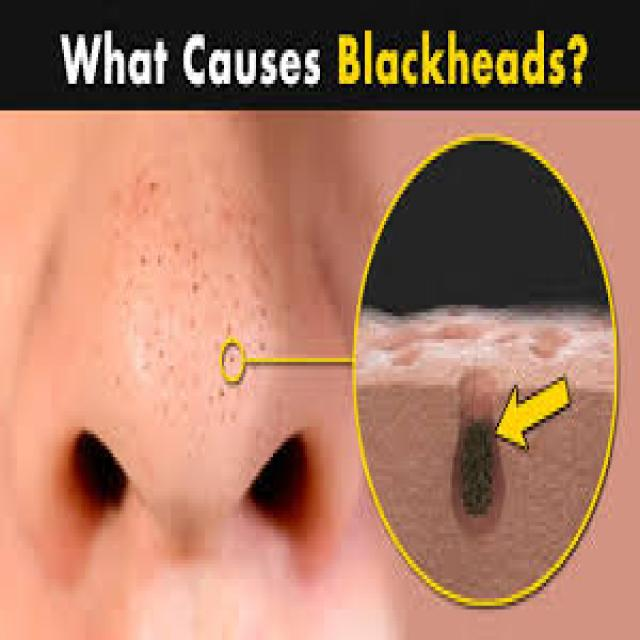Black Heads: (132, 200, 273, 438)
